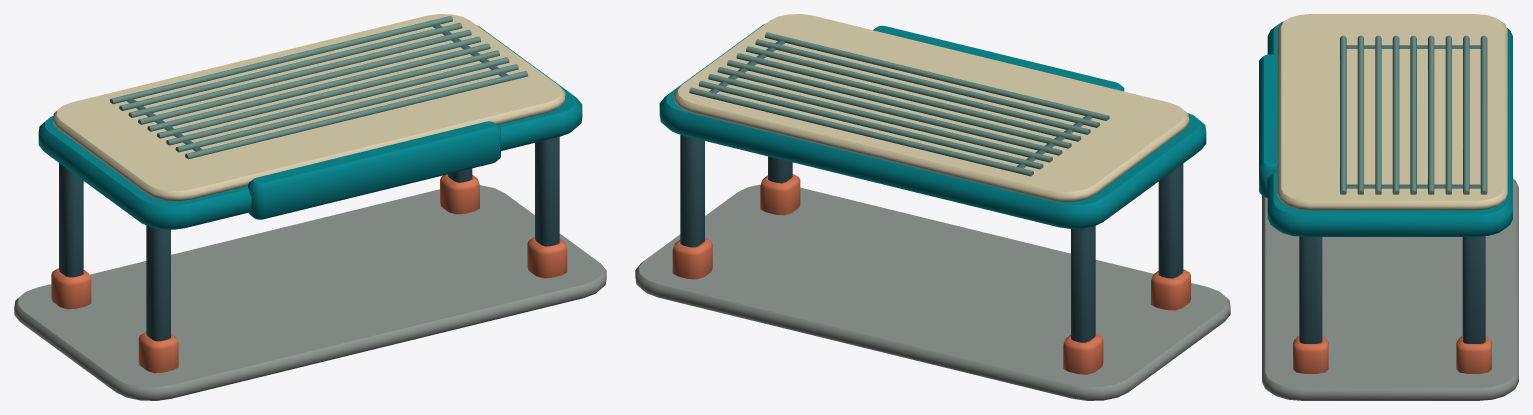
Rendered from ocean_vip_park.glb.
3 renders of one model, left to right at view 1: azimuth 30°, elevation 25°; view 2: azimuth 150°, elevation 25°; view 3: azimuth 270°, elevation 25°, orthographic. The views are drawn at different scales.
Visible parts, largest first — view 1: VipPark; view 2: VipPark; view 3: VipPark.
Part boxes in pixels (x1,y1,x2,y2): VipPark: [14, 14, 606, 400]; VipPark: [635, 14, 1230, 400]; VipPark: [1259, 14, 1518, 400].
Size of the model in its own units: 8.62 by 3.38 by 4.24.
